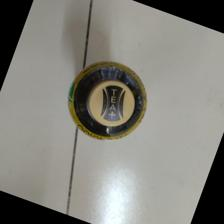Olong: (68, 59, 146, 139)
